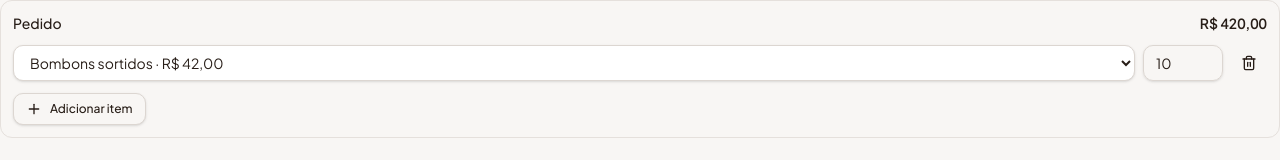
Test: PedidoCampos › remover a última linha leva o foco para "Adicionar item"
This screenshot has width=1280, height=160.
Click the button named "Remover item 1" at (1249, 63), box [1231,45,1267,81]
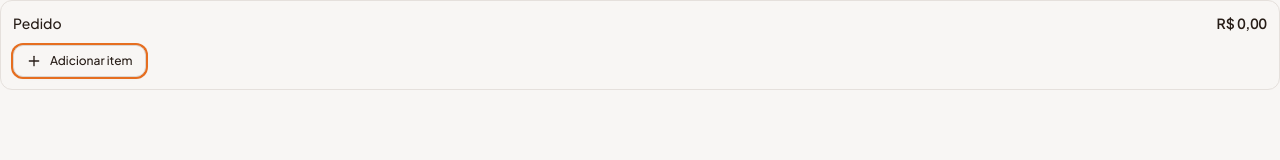
Check: the text "R$ 0,00" is shown, box [1216,13,1267,33]
